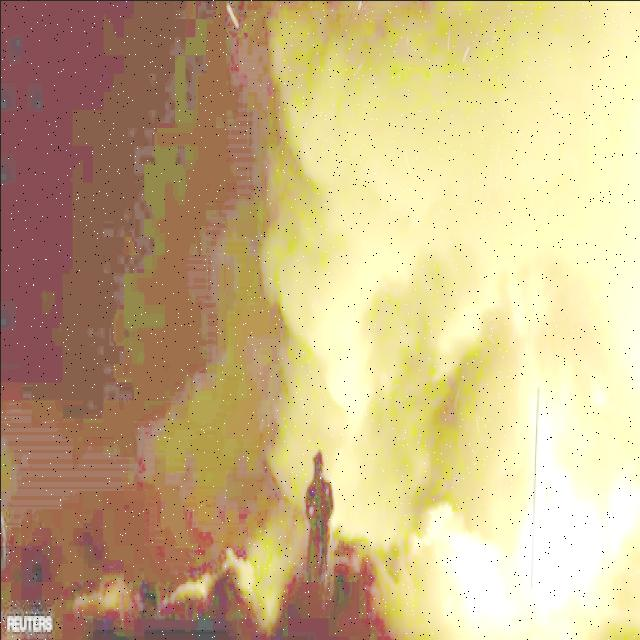api: (434, 507, 594, 640), (536, 392, 588, 506), (607, 479, 640, 544)
asap: (285, 14, 515, 460), (63, 466, 424, 640)
